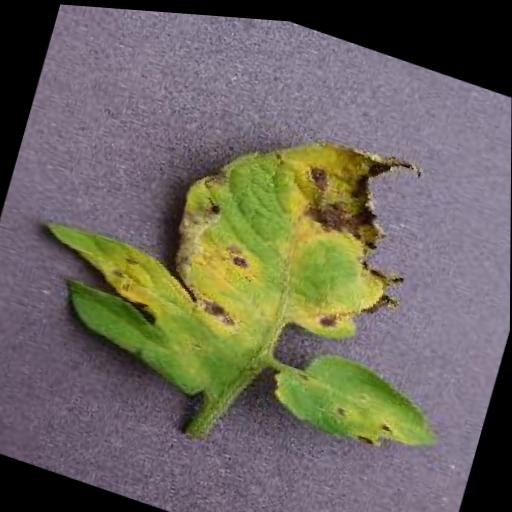Septoria: (6, 40, 511, 476)
